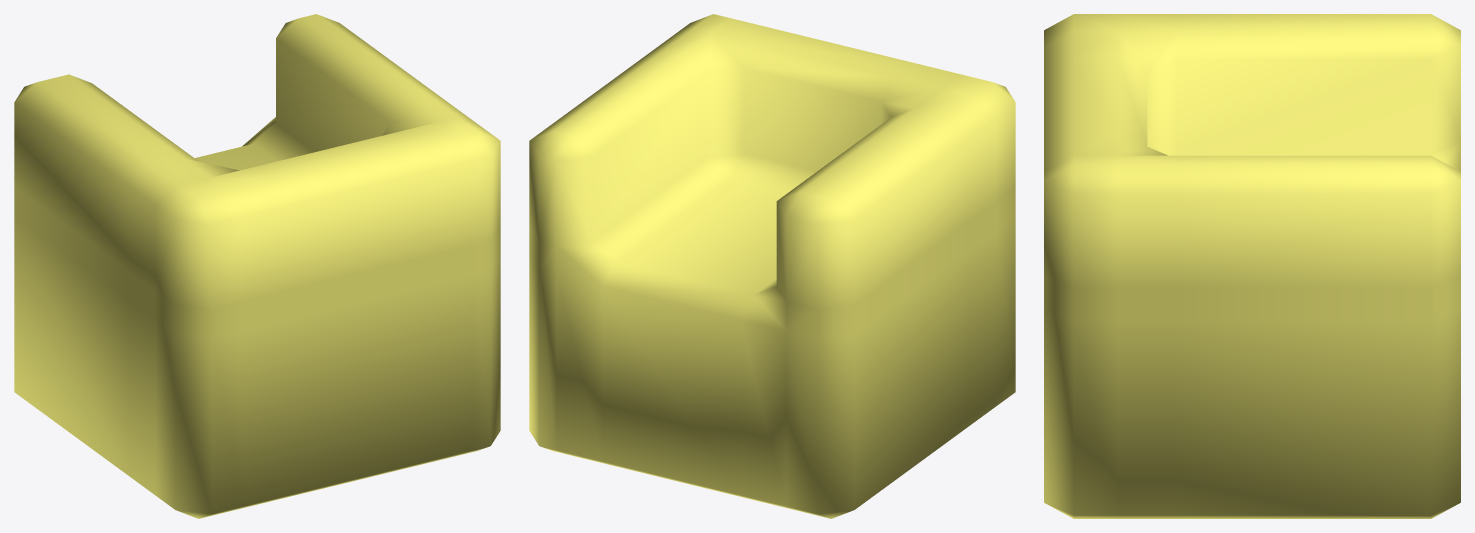
Rendered from krzeslo1.fbx.
3 renders of one model, left to right at view 1: azimuth 30°, elevation 25°; view 2: azimuth 150°, elevation 25°; view 3: azimuth 270°, elevation 25°, orthographic. The views are drawn at different scales.
Visible parts, largest first — view 1: chair; view 2: chair; view 3: chair.
Boxes of the visible parts, <box> form: chair: <box>14,14,500,518</box>; chair: <box>529,14,1015,518</box>; chair: <box>1044,14,1460,518</box>.
Bounding box in the file's own units: 254 × 238 × 254.
